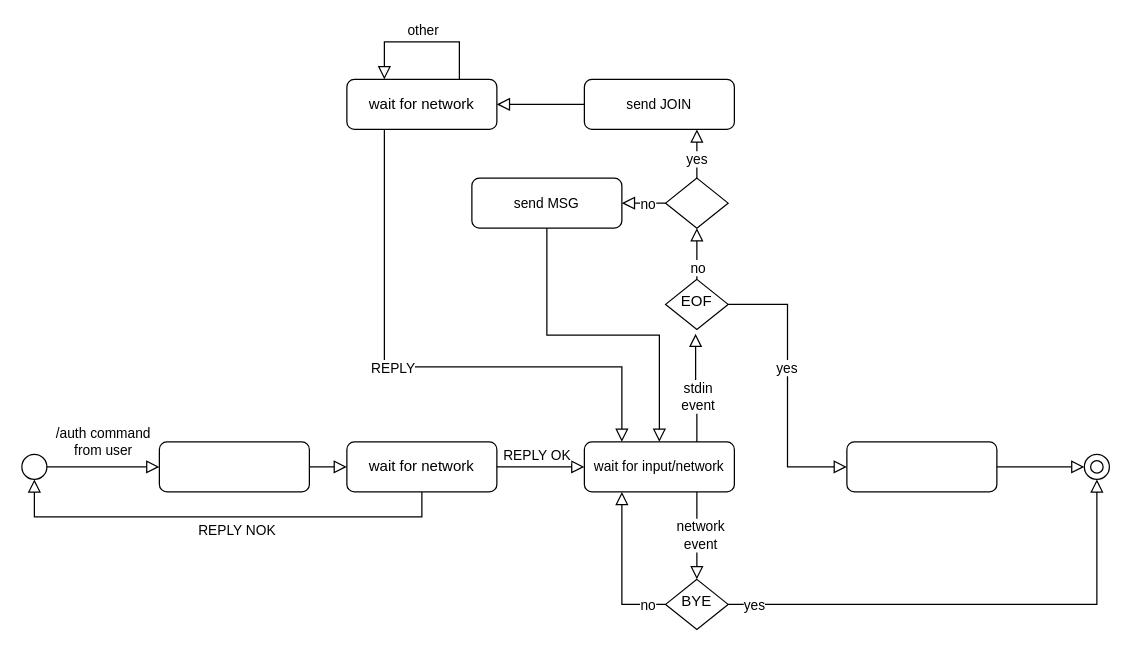
Image size: 1131x651. Some labels were removed from this diagram. Each missing label, with the box of its shape:
/join: (664, 177, 728, 228)
send AUTH: (158, 441, 309, 492)
send BYE: (846, 441, 997, 492)
